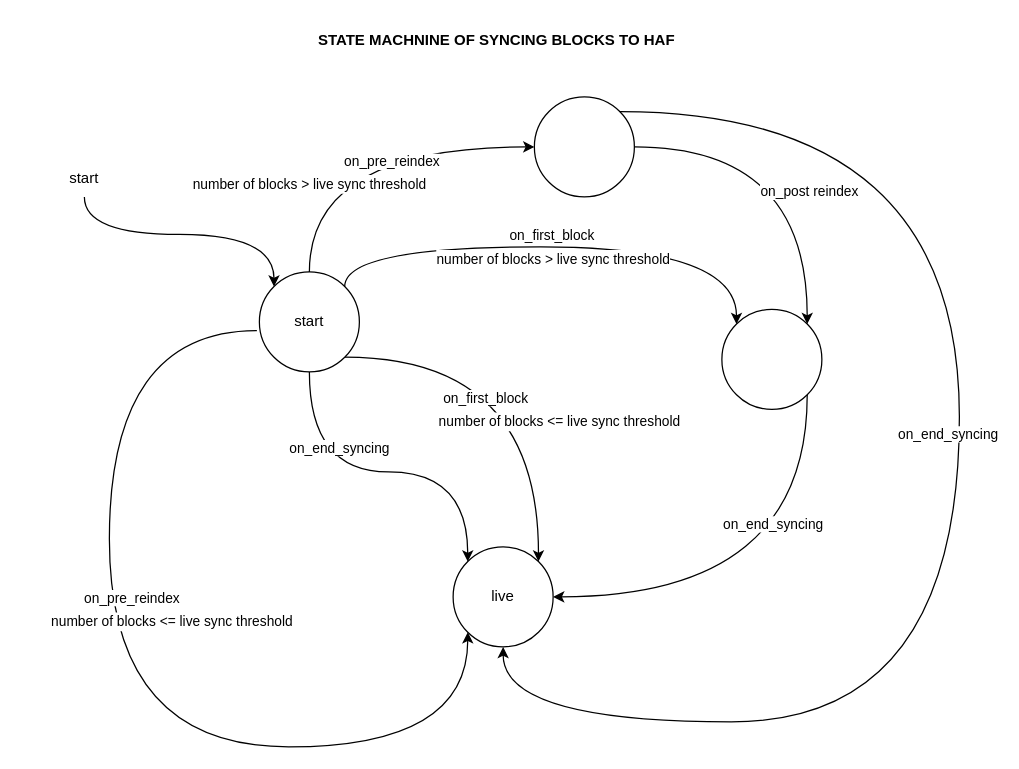
This 1019x769 diagram has some shape labels left out. Here are the shapes that lost their labels. From the top down, the centre of each, then its label:
point (583, 146): reindex
point (771, 358): p2p_sync
